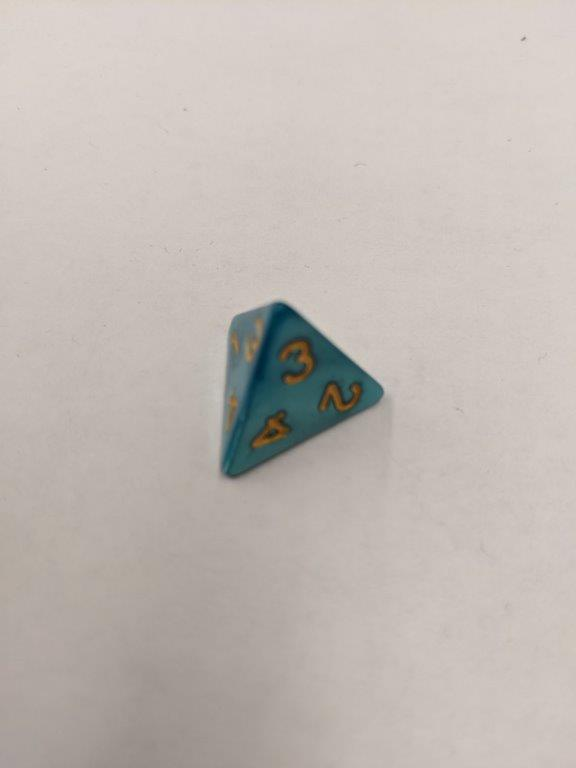d4-3: (214, 296, 388, 487)
